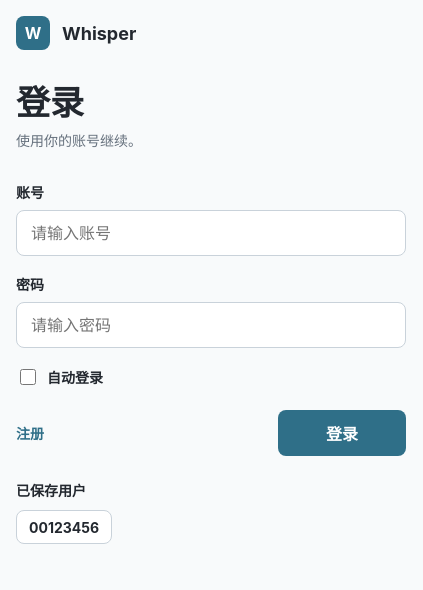
Test: LoginPanel › shows a saved-user expiration message when saved login is invalid
Click the button "00123456" at (64, 527), box [16,510,112,544]
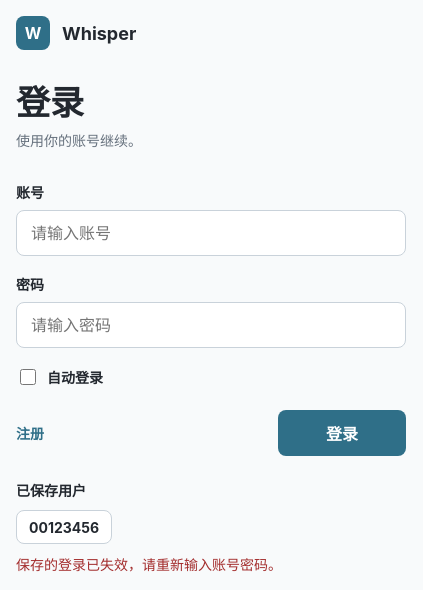
Now the text "保存的登录已失效，请重新输入账号密码。" is shown, box [16,556,282,573]
